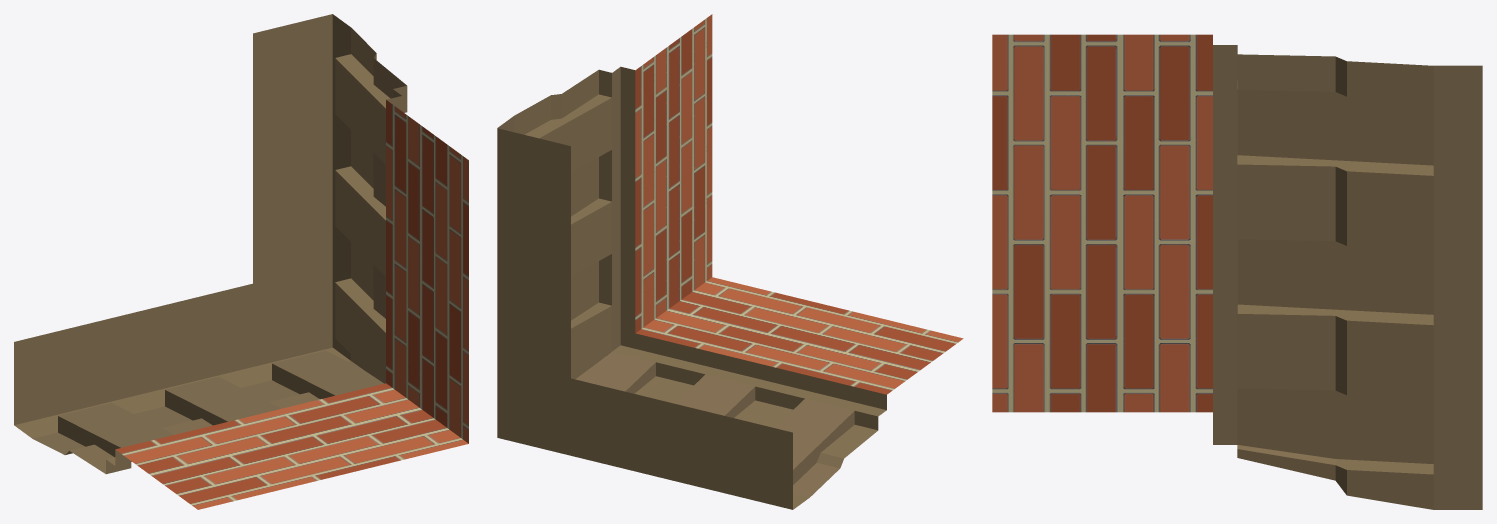
File: corner02.fbx
3 renders of one model, left to right at view 1: azimuth 30°, elevation 25°; view 2: azimuth 150°, elevation 25°; view 3: azimuth 270°, elevation 25°, orthographic. The views are drawn at different scales.
Parts seen in each view (by area): view 1: Cube.001; view 2: Cube.001; view 3: Cube.001.
Boxes of the visible parts, left/top/right/bottom form: Cube.001: left=14, top=14, right=468, bottom=509; Cube.001: left=497, top=14, right=963, bottom=509; Cube.001: left=992, top=34, right=1482, bottom=509.
Bounding box in the file's own units: 200 × 200 × 200.
